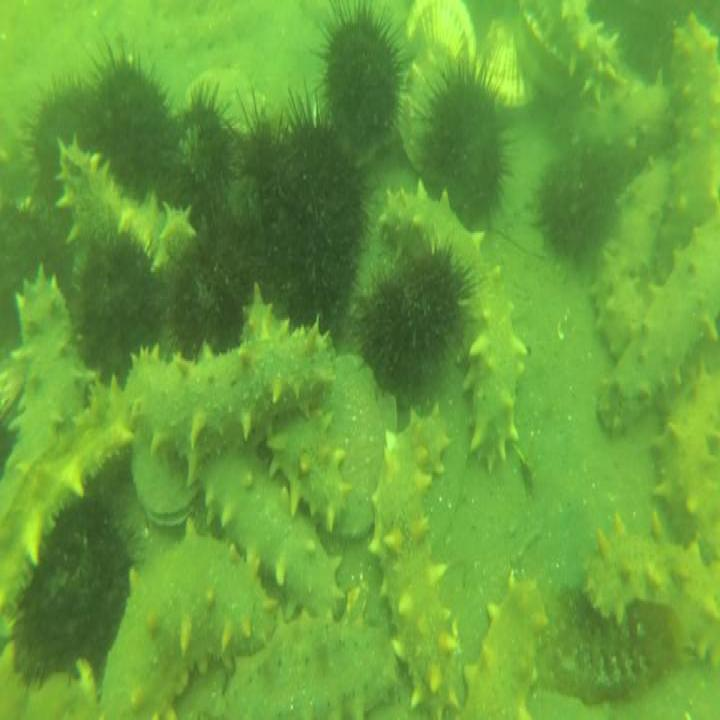echinus: (257, 98, 369, 320), (9, 494, 130, 690), (355, 247, 475, 393), (416, 62, 511, 224), (312, 0, 405, 155), (84, 46, 175, 199), (77, 222, 167, 373), (531, 150, 618, 268), (157, 89, 234, 215), (26, 76, 105, 198), (0, 194, 62, 343), (166, 244, 246, 356)
holothurian: (374, 183, 530, 473), (125, 288, 331, 485), (98, 515, 280, 720), (1, 375, 141, 617), (373, 398, 462, 720), (593, 217, 720, 441), (196, 592, 398, 720), (200, 448, 349, 619), (581, 503, 720, 677), (53, 130, 203, 272), (591, 138, 674, 362), (659, 5, 720, 279), (9, 260, 84, 471), (458, 565, 553, 720), (654, 359, 720, 564), (557, 71, 676, 173), (268, 400, 354, 532), (527, 0, 629, 101)
scallop: (334, 349, 401, 538), (395, 50, 457, 178), (512, 0, 589, 103), (471, 11, 541, 122), (128, 441, 200, 531), (184, 66, 269, 132), (403, 0, 482, 71)
